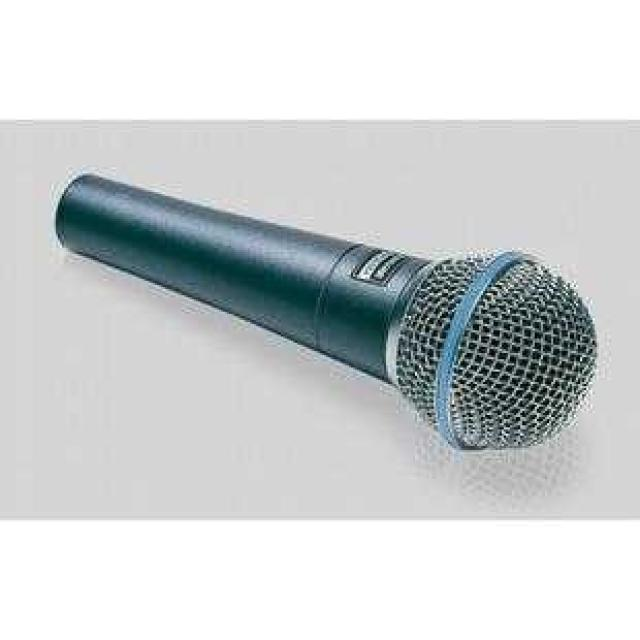microphone: (42, 164, 598, 465)
